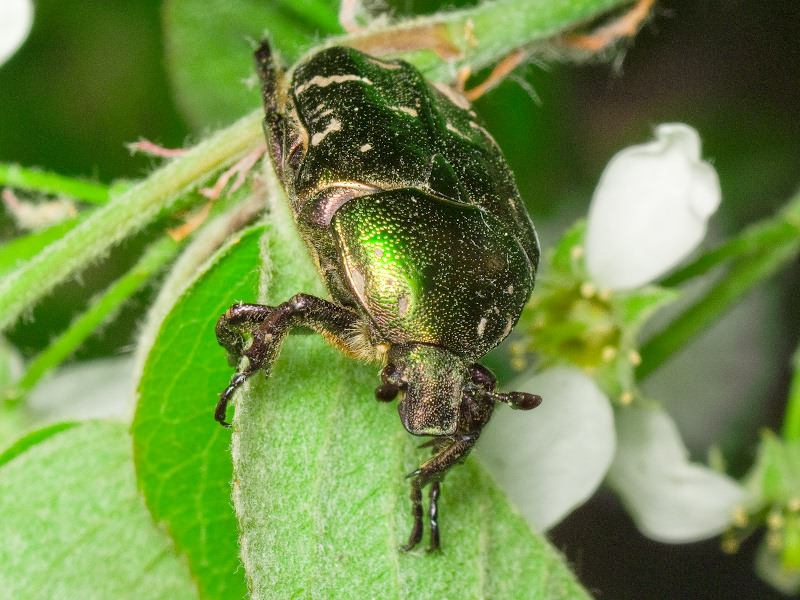Protaetia_metallica: (191, 24, 549, 551)
